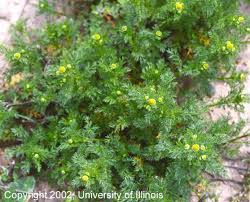pineple: (47, 119, 150, 190), (81, 27, 166, 90)
